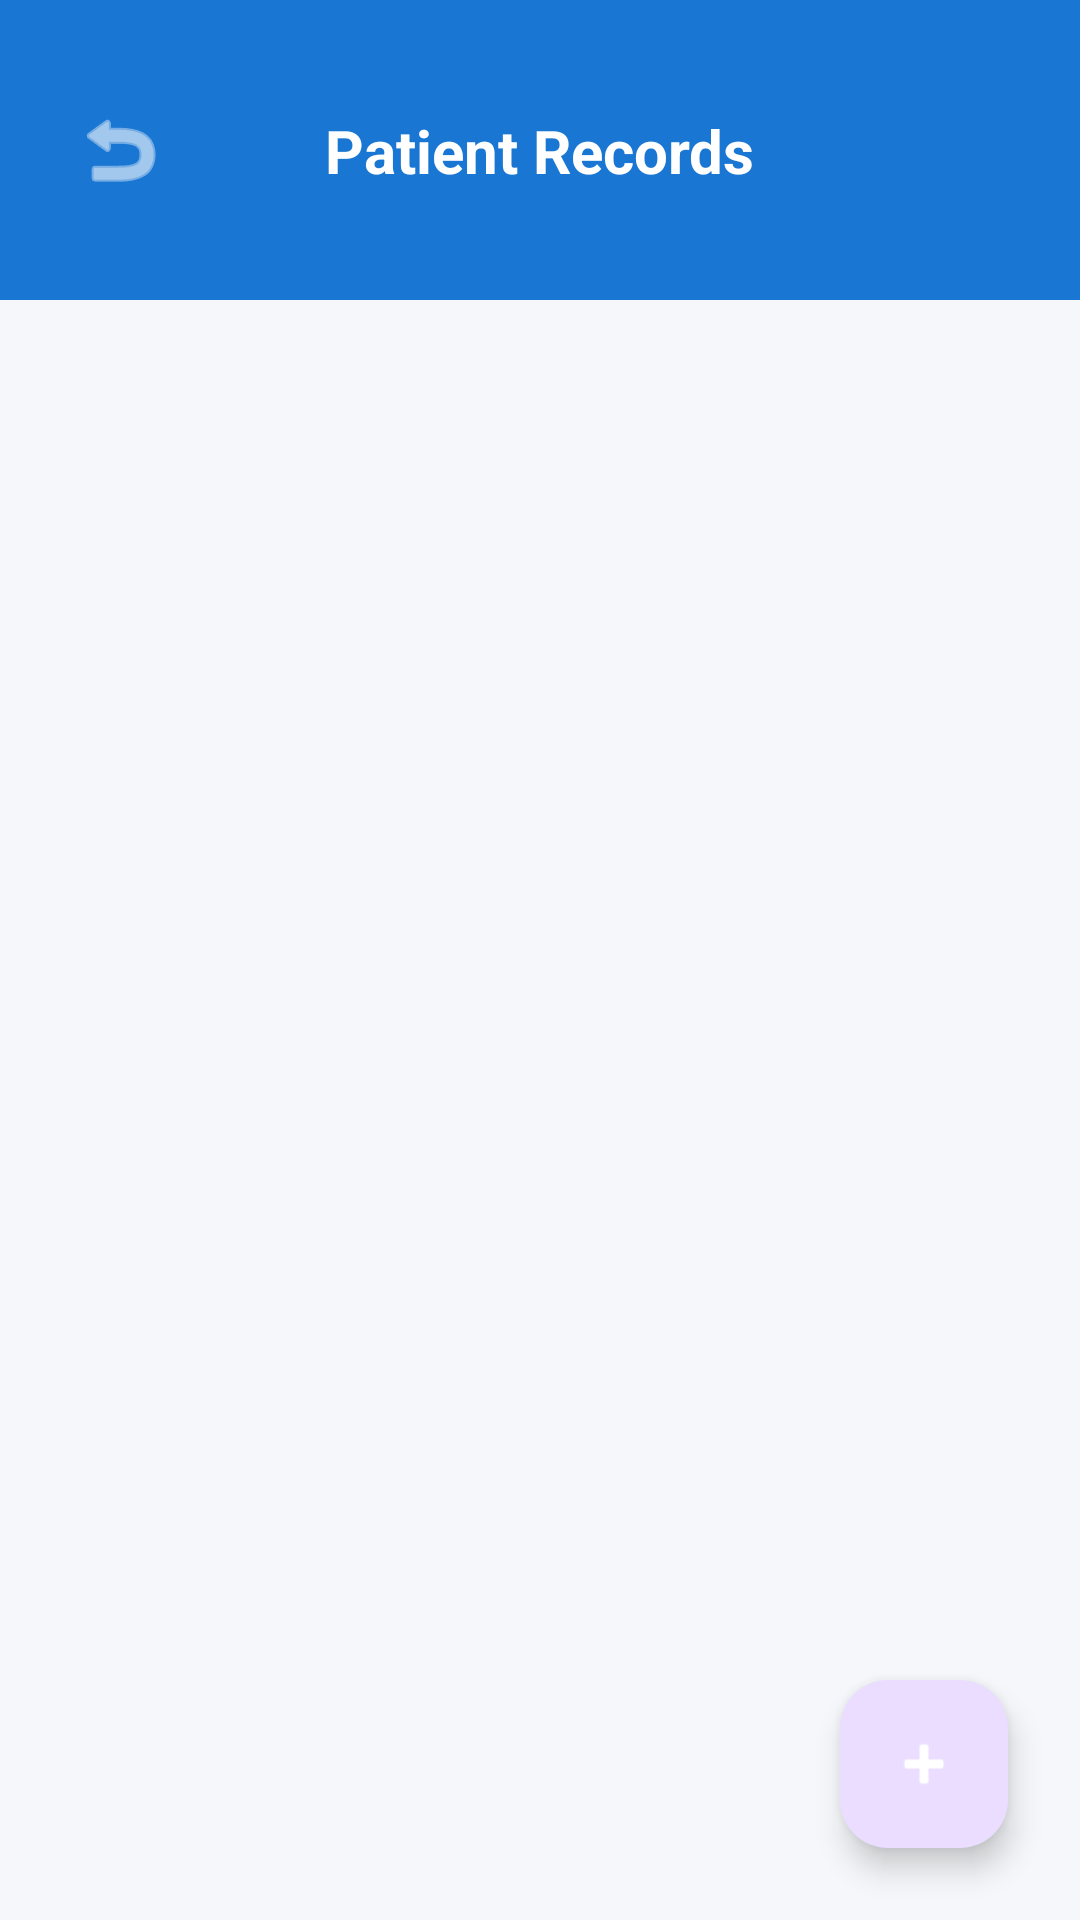

Named icons in this screenshot (1080x1920) and their bounding boxes, [x1,y1,x2,y2]:
Add Patient: [840,1680,1008,1848]
revert: [87,119,156,182]
